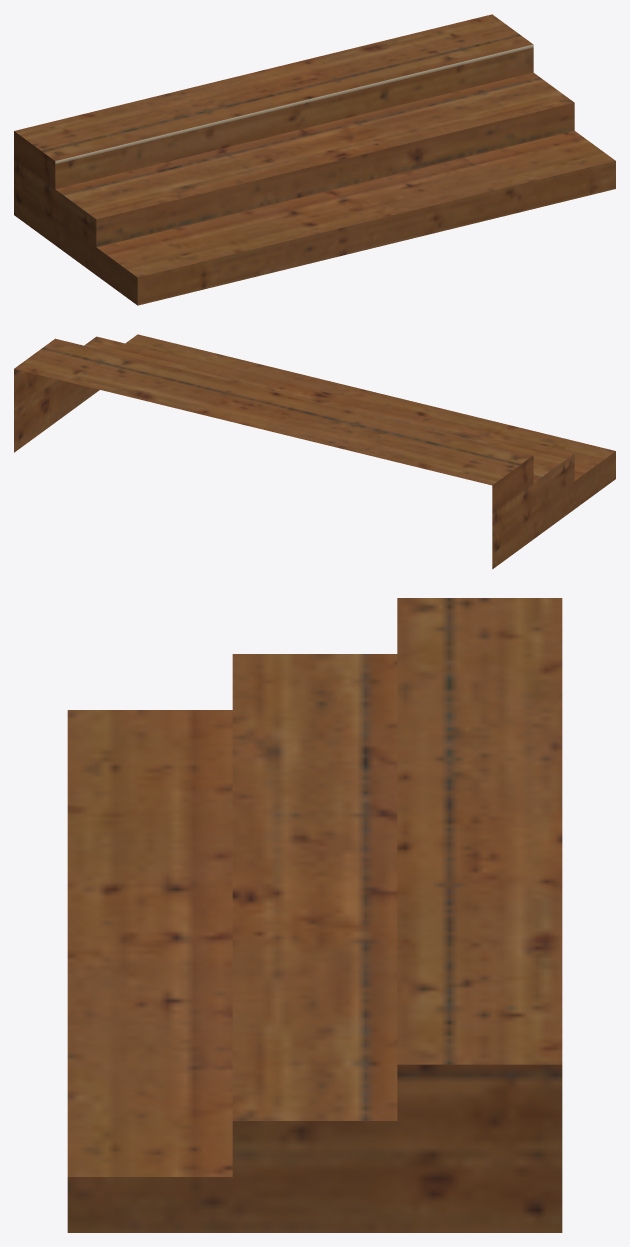
The model's file is Tangga.fbx.
The picture shows the model from 3 angles, top to bottom: view 1: azimuth 30°, elevation 25°; view 2: azimuth 150°, elevation 25°; view 3: azimuth 270°, elevation 25°; orthographic projection. The views are drawn at different scales.
Visible parts, largest first — view 1: Base_Baked.001; view 2: Base_Baked.001; view 3: Base_Baked.001.
Part boxes in pixels (x1,y1,x2,y2): Base_Baked.001: [14, 14, 615, 305]; Base_Baked.001: [14, 334, 615, 569]; Base_Baked.001: [67, 598, 562, 1232].
Bounding box in the file's own units: 268 × 45 × 120.
1 material, 1 textured.
